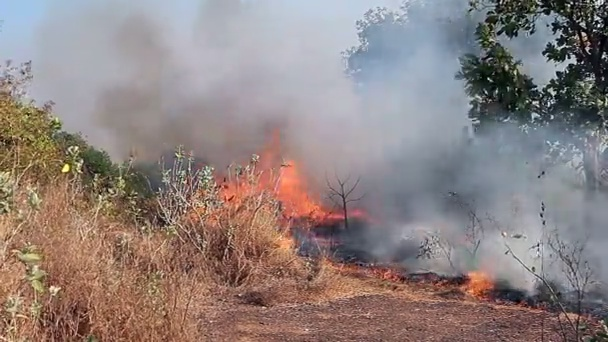fire: (469, 272, 487, 293), (302, 200, 322, 215), (62, 164, 69, 173)
